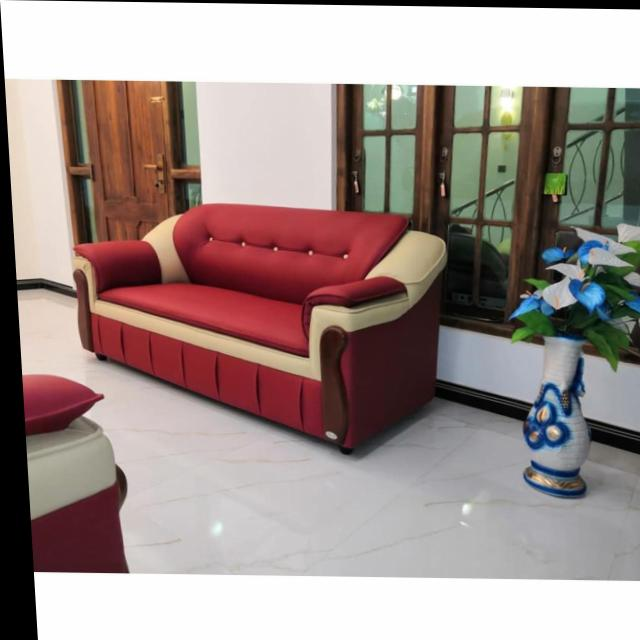Sofa: (67, 201, 445, 458)
